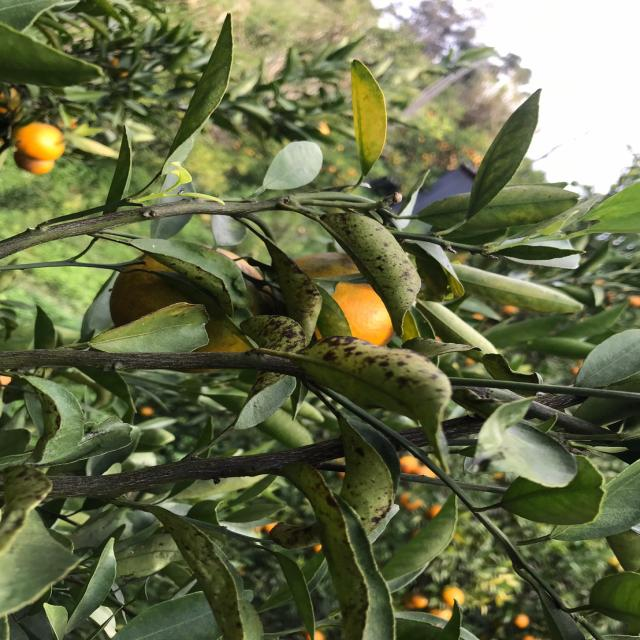melanose: (312, 332, 472, 442), (286, 463, 384, 640), (324, 210, 446, 330), (150, 508, 257, 640), (333, 424, 406, 540), (240, 305, 306, 415), (0, 451, 55, 572), (271, 242, 331, 336)
